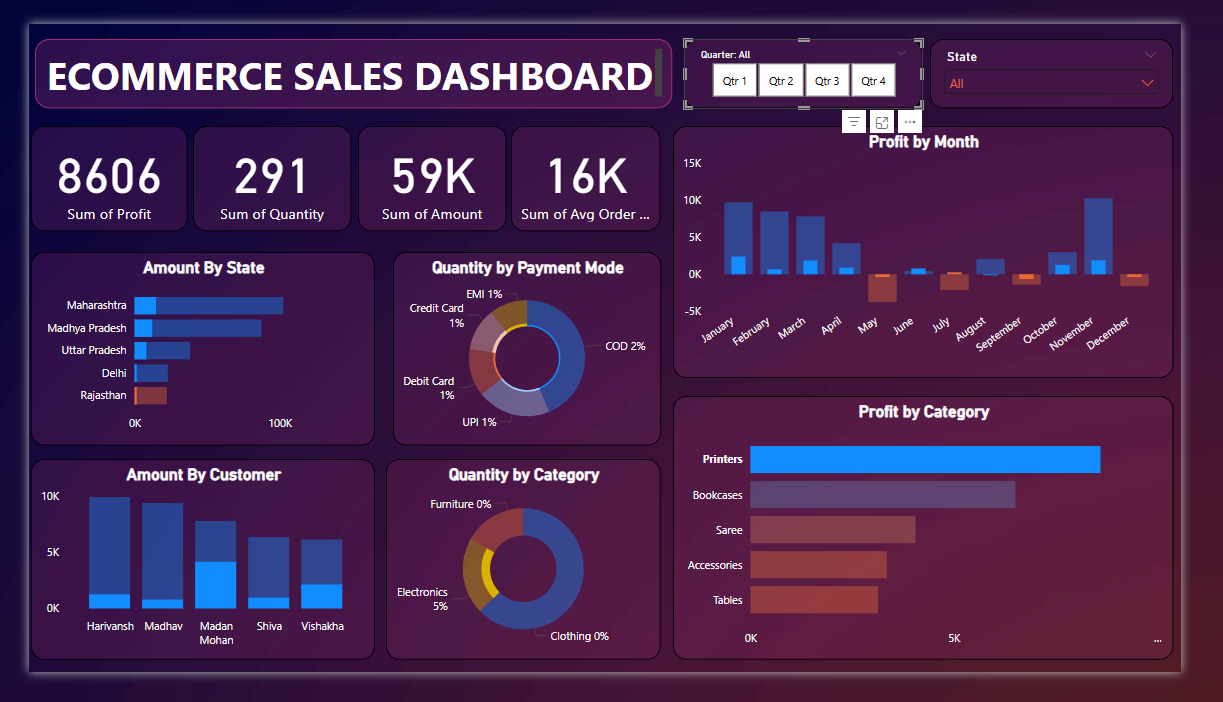

What the dashboard file says about the page in this screenshot:
{"tool":"powerbi","page":{"name":"SALES DASHBOARD","canvas":[1280,720],"ordinal":0},"visuals":[{"type":"textbox","box":[7,17,708,77],"z":0},{"type":"columnChart","title":"Profit by Month","fields":{"Y":["Details.Profit"],"Category":["Orders.Order Date.Variation.Date Hierarchy.Month"]},"box":[715,113,556,280],"z":1000},{"type":"clusteredBarChart","title":"Profit by Category","fields":{"Y":["Details.Profit"],"Category":["Details.Sub-Category"]},"box":[715,413,556,293],"z":2000},{"type":"donutChart","title":"Quantity by Category","fields":{"Y":["Details.Quantity"],"Category":["Details.Category"]},"box":[397,483,305,223],"z":3000},{"type":"donutChart","title":"Quantity by Payment Mode","fields":{"Y":["Details.Quantity"],"Category":["Details.PaymentMode"]},"box":[404,253,298,215],"z":4000},{"type":"card","fields":{"Values":["Details.Amount"]},"box":[365,113,165,117],"z":5000},{"type":"card","fields":{"Values":["Details.Quantity"]},"box":[182,113,176,117],"z":6000},{"type":"card","fields":{"Values":["Details.Profit"]},"box":[2,113,174,117],"z":7000},{"type":"card","fields":{"Values":["Details.Avg Order Value"]},"box":[536,113,166,117],"z":8000},{"type":"clusteredBarChart","title":"Amount By State","fields":{"Category":["Orders.State"],"Y":["Details.Amount"]},"box":[2,253,382,215],"z":9000},{"type":"columnChart","title":"Amount By Customer ","fields":{"Category":["Orders.CustomerName"],"Y":["Details.Amount"]},"box":[2,483,382,223],"z":10000},{"type":"slicer","fields":{"Values":["Orders.Order Date.Variation.Date Hierarchy.Quarter"]},"box":[728,17,265,77],"z":11000},{"type":"slicer","fields":{"Values":["Orders.State"]},"box":[1001,17,270,77],"z":12000}]}

Visuals, with their boxes in screenshot pixels (x1, y1, x2, y2), scaled from the page's 1280x720 canvas onto the 1223x702 screenshot:
textbox: [left=7, top=17, right=683, bottom=92]
"Profit by Month" columnChart: [left=683, top=110, right=1214, bottom=383]
"Profit by Category" clusteredBarChart: [left=683, top=403, right=1214, bottom=688]
"Quantity by Category" donutChart: [left=379, top=471, right=671, bottom=688]
"Quantity by Payment Mode" donutChart: [left=386, top=247, right=671, bottom=456]
card - Details.Amount: [left=349, top=110, right=506, bottom=224]
card - Details.Quantity: [left=174, top=110, right=342, bottom=224]
card - Details.Profit: [left=2, top=110, right=168, bottom=224]
card - Details.Avg Order Value: [left=512, top=110, right=671, bottom=224]
"Amount By State" clusteredBarChart: [left=2, top=247, right=367, bottom=456]
"Amount By Customer " columnChart: [left=2, top=471, right=367, bottom=688]
slicer - Orders.Order Date.Variation.Date Hierarchy.Quarter: [left=696, top=17, right=949, bottom=92]
slicer - Orders.State: [left=956, top=17, right=1214, bottom=92]
